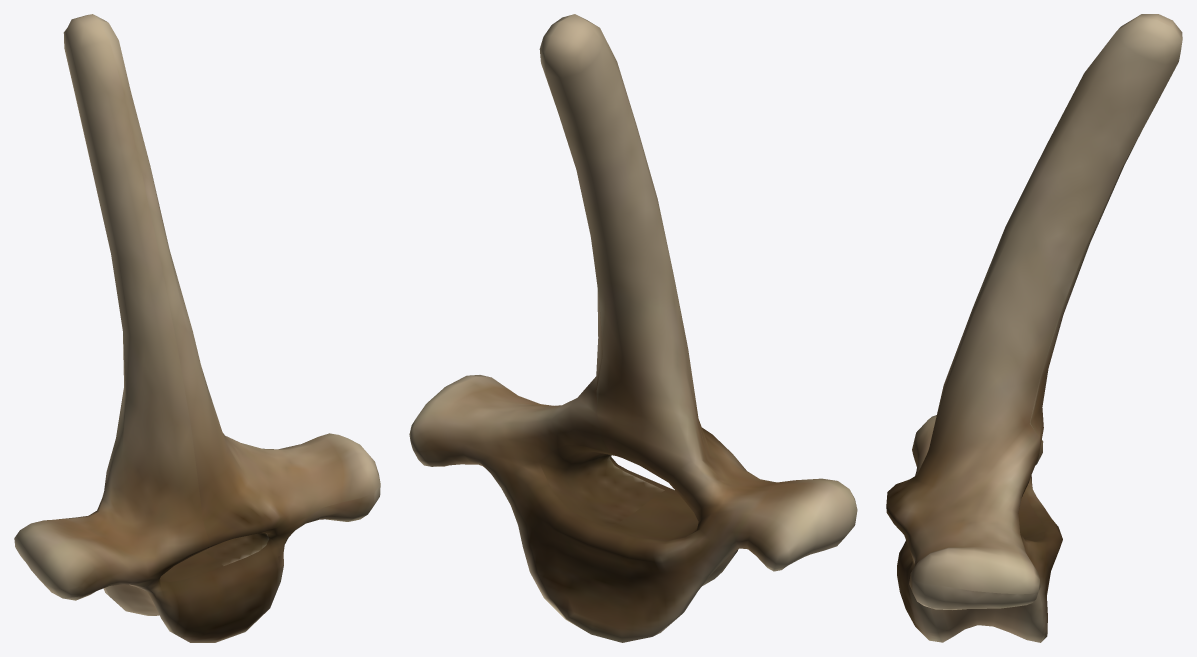
The model's file is Thoracic_Vertebrae3.glb.
3 renders of one model, left to right at view 1: azimuth 30°, elevation 25°; view 2: azimuth 150°, elevation 25°; view 3: azimuth 270°, elevation 25°, orthographic. The views are drawn at different scales.
Visible parts, largest first — view 1: Horse_low:SelSet_23Merged_L_Frt_Sesamoid_Bones_1; view 2: Horse_low:SelSet_23Merged_L_Frt_Sesamoid_Bones_1; view 3: Horse_low:SelSet_23Merged_L_Frt_Sesamoid_Bones_1.
Boxes of the visible parts, x1,y1,x2,y2 form: Horse_low:SelSet_23Merged_L_Frt_Sesamoid_Bones_1: (14,14,380,642); Horse_low:SelSet_23Merged_L_Frt_Sesamoid_Bones_1: (409,14,857,642); Horse_low:SelSet_23Merged_L_Frt_Sesamoid_Bones_1: (886,14,1182,642).
Size of the model in its own units: 0.1509 by 0.2384 by 0.1056.
Materials: 1 (1 with a texture image).
